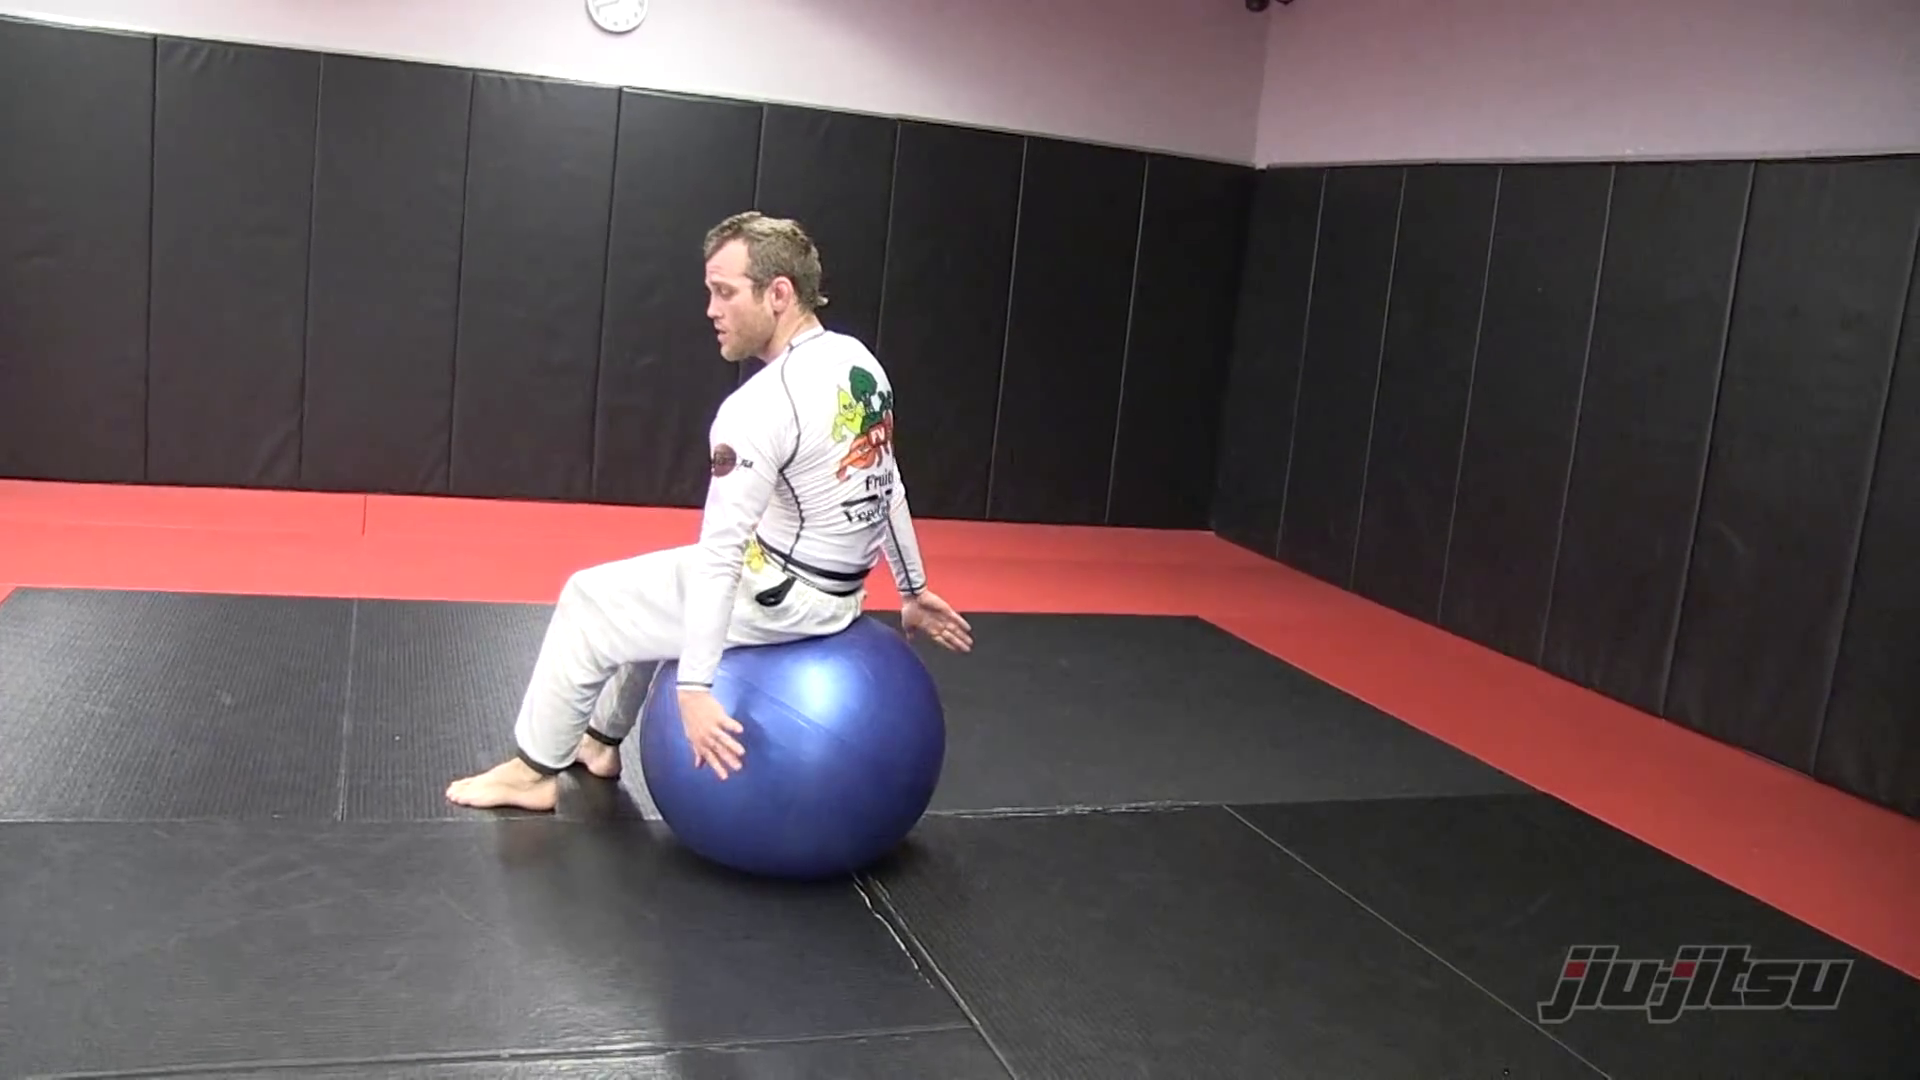yogaball: (633, 626, 963, 899)
